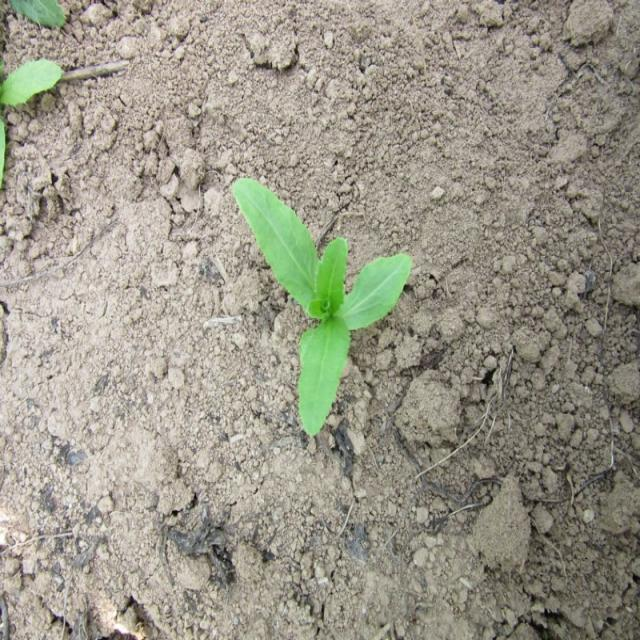field_thistle: (190, 173, 404, 434)
